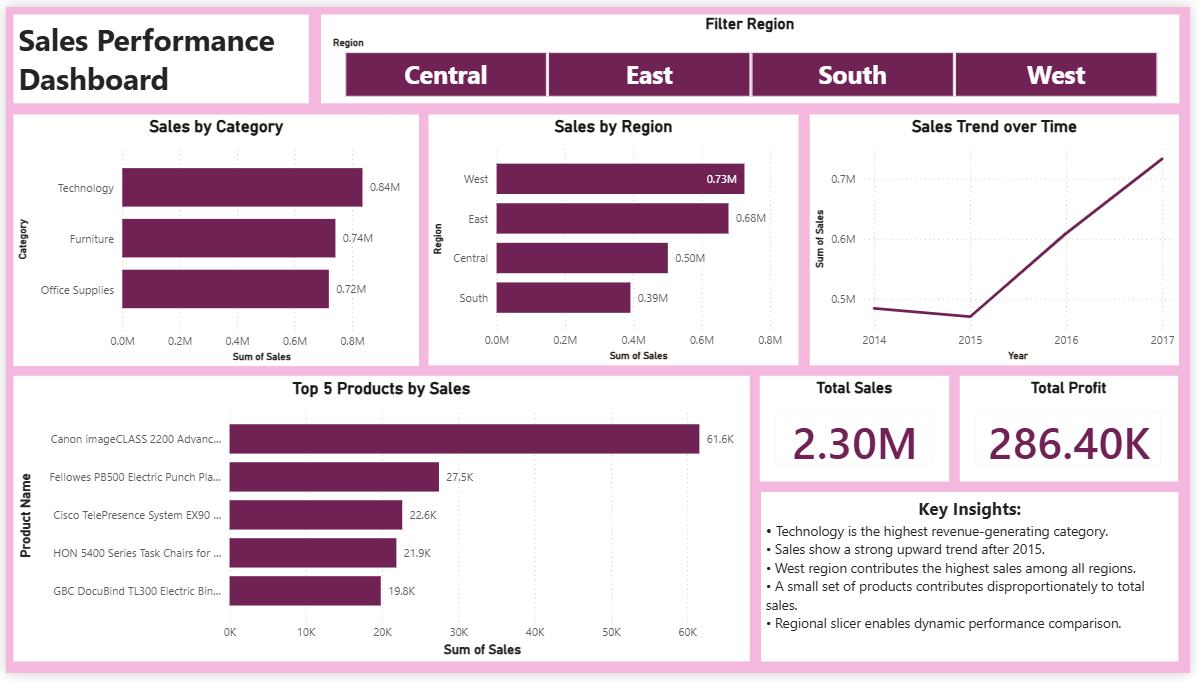

The dashboard page shown, as its layout file describes it:
{"tool":"powerbi","page":{"name":"Page 1","canvas":[1280,720],"ordinal":0},"visuals":[{"type":"cardVisual","title":"Total Sales","fields":{"Data":["Sum(Sample - Superstore.Sales)"]},"box":[0,0,279.9,279.9],"z":0},{"type":"cardVisual","title":"Total Profit","fields":{"Data":["Sum(Sample - Superstore.Profit)"]},"box":[0,290,280,280],"z":1000},{"type":"clusteredBarChart","title":"Sales by Category","fields":{"Category":["Sample - Superstore.Category"],"Y":["Sum(Sample - Superstore.Sales)"]},"box":[280,2.5,488.8,277.5],"z":1001},{"type":"lineChart","title":"Sales Trend over Time","fields":{"Y":["Sum(Sample - Superstore.Sales)"],"Category":["Sample - Superstore.Order Date.Variation.Date Hierarchy.Year","Sample - Superstore.Order Date.Variation.Date Hierarchy.Quarter","Sample - Superstore.Order Date.Variation.Date Hierarchy.Month","Sample - Superstore.Order Date.Variation.Date Hierarchy.Day"]},"box":[779,3,489,278],"z":1002},{"type":"clusteredBarChart","title":"Sales by Region","fields":{"Category":["Sample - Superstore.Region"],"Y":["Sum(Sample - Superstore.Sales)"]},"box":[302.5,290,443.8,247.5],"z":1003},{"type":"slicer","title":"Filter Region","fields":{"Values":["Sample - Superstore.Region"]},"box":[768.8,290,171.2,178.8],"z":1004}]}

Visuals, with their boxes in screenshot pixels (x1, y1, x2, y2), scaled from the page's 1280x720 canvas onto the 1198x681 screenshot:
"Total Sales" cardVisual: 0:0:262:265
"Total Profit" cardVisual: 0:274:262:539
"Sales by Category" clusteredBarChart: 262:2:720:265
"Sales Trend over Time" lineChart: 729:3:1187:266
"Sales by Region" clusteredBarChart: 283:274:698:508
"Filter Region" slicer: 720:274:880:443
